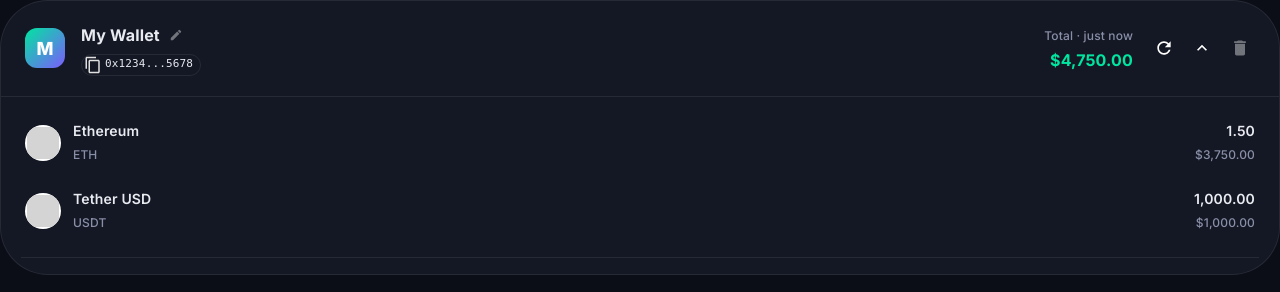
Test case: WalletCard › collapses content when collapse button is clicked
Check: the text "Ethereum" is shown, box [73, 121, 139, 141]
Click the button named "collapse": (1202, 48) [1187, 33, 1217, 63]
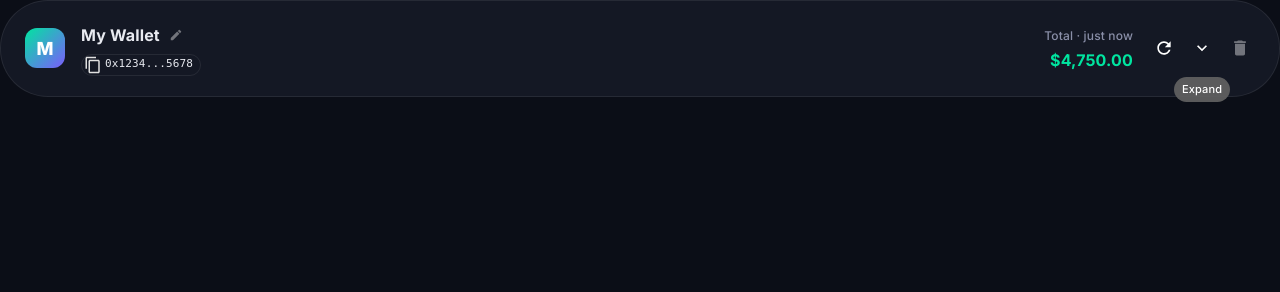
Check: the button named "expand" is shown, box [1187, 33, 1217, 63]
